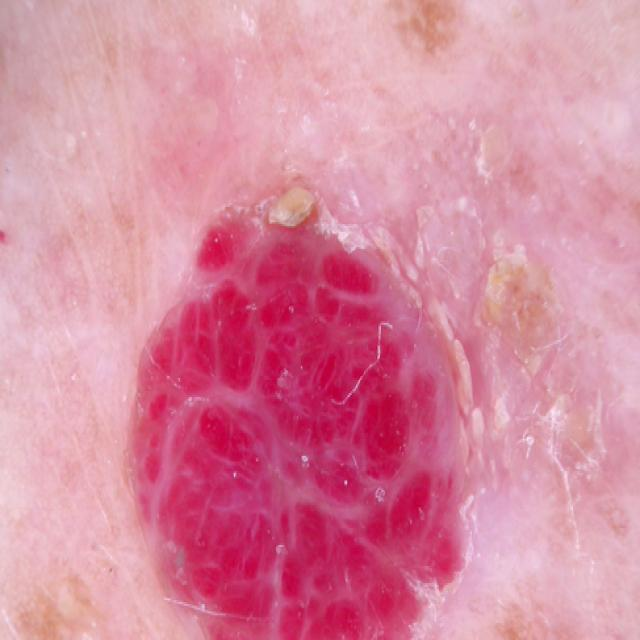Vascular Lesions: (106, 180, 514, 640)
